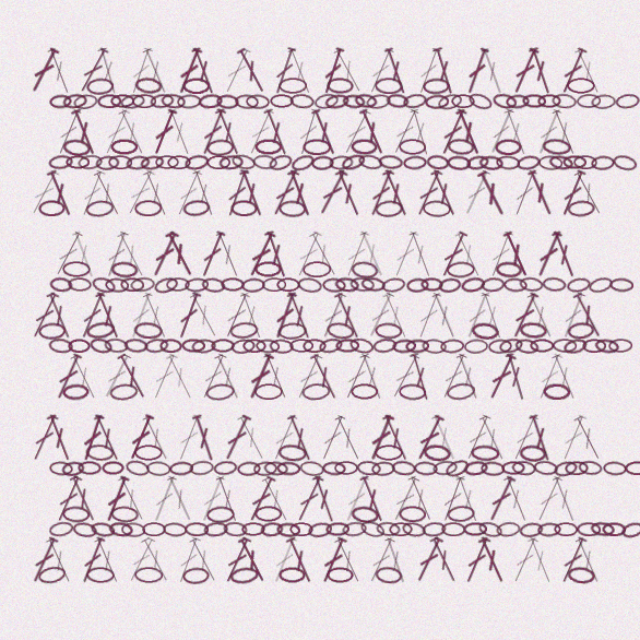chain: (78, 298, 106, 317), (408, 354, 436, 373), (406, 423, 431, 444), (34, 522, 61, 541), (427, 88, 452, 108), (265, 144, 290, 164), (78, 187, 105, 205), (298, 299, 325, 317), (100, 355, 127, 373), (188, 355, 215, 373), (210, 523, 237, 541), (311, 144, 336, 163), (57, 131, 83, 149), (321, 243, 347, 261), (431, 299, 457, 317), (321, 467, 347, 485), (496, 131, 523, 148), (122, 299, 149, 316), (210, 299, 237, 316), (276, 355, 303, 372), (78, 411, 105, 428), (254, 411, 281, 428), (245, 144, 269, 163), (329, 480, 353, 499), (123, 75, 149, 92), (409, 131, 435, 148), (167, 187, 193, 204), (475, 299, 501, 316), (519, 299, 545, 316), (387, 411, 413, 428), (409, 467, 435, 484), (343, 523, 369, 540), (519, 523, 545, 540), (400, 89, 424, 107), (560, 145, 584, 163), (83, 257, 107, 275), (140, 257, 164, 275), (538, 257, 562, 275), (254, 300, 281, 316), (515, 313, 539, 331), (506, 425, 530, 443), (437, 481, 461, 499), (343, 188, 369, 204), (387, 188, 413, 204), (519, 188, 545, 204), (101, 244, 127, 260), (409, 244, 435, 260), (453, 244, 479, 260), (431, 412, 457, 428), (475, 412, 501, 428), (101, 468, 127, 484), (189, 468, 215, 484), (568, 481, 591, 499), (287, 89, 311, 106), (368, 89, 392, 106), (450, 89, 474, 106), (168, 145, 192, 162), (211, 145, 235, 162), (327, 145, 351, 162), (421, 257, 445, 274), (291, 313, 315, 330), (319, 313, 343, 330), (456, 313, 480, 330), (114, 425, 138, 442), (44, 481, 68, 498), (79, 76, 104, 92), (387, 76, 412, 92), (189, 132, 214, 148), (255, 188, 280, 204), (35, 300, 60, 316), (343, 300, 368, 316), (57, 356, 82, 372), (365, 356, 390, 372), (57, 468, 82, 484), (167, 524, 192, 540), (81, 313, 104, 330), (255, 76, 281, 91), (343, 76, 369, 91), (519, 76, 545, 91), (277, 132, 303, 147), (57, 244, 83, 259), (277, 244, 303, 259), (233, 356, 259, 371), (123, 412, 149, 427), (343, 412, 369, 427), (79, 524, 105, 539), (123, 524, 149, 539), (472, 146, 496, 162), (518, 258, 542, 274), (82, 482, 106, 498), (281, 482, 305, 498), (367, 482, 391, 498), (167, 76, 192, 91), (299, 76, 324, 91), (101, 132, 126, 147), (233, 132, 258, 147), (321, 132, 346, 147), (365, 132, 390, 147), (453, 132, 478, 147), (35, 188, 60, 203), (123, 188, 148, 203), (211, 188, 236, 203), (233, 244, 258, 259), (321, 356, 346, 371), (497, 356, 522, 371), (233, 468, 258, 483), (365, 468, 390, 483), (255, 524, 280, 539), (299, 524, 324, 539), (67, 90, 90, 106), (110, 90, 133, 106), (297, 90, 320, 106), (335, 90, 358, 106), (115, 146, 138, 162), (128, 146, 151, 162), (426, 146, 449, 162), (502, 146, 525, 162), (184, 258, 207, 274), (272, 258, 295, 274), (349, 258, 372, 274), (211, 314, 234, 330), (471, 314, 494, 330), (544, 314, 567, 330), (274, 426, 297, 442), (66, 482, 89, 498), (475, 482, 498, 498), (401, 258, 423, 274), (56, 426, 78, 442), (57, 90, 80, 105), (137, 90, 160, 105), (147, 90, 170, 105), (181, 90, 204, 105), (265, 90, 288, 105), (505, 90, 528, 105), (563, 90, 586, 105), (44, 146, 67, 161), (71, 146, 94, 161), (200, 146, 223, 161), (231, 146, 254, 161), (346, 146, 369, 161), (119, 258, 142, 273), (306, 258, 329, 273), (320, 258, 343, 273), (330, 258, 353, 273), (440, 258, 463, 273), (475, 258, 498, 273), (496, 258, 519, 273), (44, 314, 67, 329), (95, 314, 118, 329), (113, 314, 136, 329), (132, 314, 155, 329), (341, 314, 364, 329), (173, 426, 196, 441), (195, 426, 218, 441), (326, 426, 349, 441), (358, 426, 381, 441), (396, 426, 419, 441), (424, 426, 447, 441), (468, 426, 491, 441), (488, 426, 511, 441), (529, 426, 552, 441), (99, 482, 122, 497), (186, 482, 209, 497), (204, 482, 227, 497), (313, 482, 336, 497), (344, 482, 367, 497), (386, 482, 409, 497), (454, 482, 477, 497), (540, 482, 563, 497), (324, 90, 346, 105), (353, 90, 375, 105), (390, 146, 412, 161), (45, 258, 67, 273), (238, 482, 260, 497), (541, 91, 564, 105), (87, 147, 110, 161), (301, 147, 324, 161), (438, 147, 461, 161), (175, 315, 198, 329), (246, 315, 269, 329), (386, 315, 409, 329), (241, 427, 264, 441), (162, 91, 184, 105), (215, 91, 237, 105), (225, 91, 247, 105), (313, 91, 335, 105), (389, 91, 411, 105), (463, 91, 485, 105), (369, 147, 391, 161), (409, 147, 431, 161), (454, 147, 476, 161), (493, 147, 515, 161), (541, 147, 563, 161), (96, 259, 118, 273), (169, 259, 191, 273), (221, 259, 243, 273), (295, 259, 317, 273), (461, 259, 483, 273), (558, 259, 580, 273), (234, 315, 256, 329), (359, 315, 381, 329), (371, 315, 393, 329), (403, 315, 425, 329), (425, 315, 447, 329), (447, 315, 469, 329), (45, 427, 67, 441), (134, 427, 156, 441), (155, 427, 177, 441), (217, 427, 239, 441), (232, 427, 254, 441), (253, 427, 275, 441), (295, 427, 317, 441), (340, 427, 362, 441), (379, 427, 401, 441), (440, 427, 462, 441), (552, 427, 574, 441), (111, 483, 133, 497), (149, 483, 171, 497), (253, 483, 275, 497), (492, 483, 514, 497), (45, 91, 66, 105), (198, 91, 219, 105), (285, 147, 306, 161), (372, 259, 393, 273), (89, 91, 111, 104), (101, 91, 123, 104), (121, 91, 143, 104), (247, 91, 269, 104), (413, 91, 435, 104), (478, 91, 500, 104), (492, 91, 514, 104), (528, 91, 550, 104), (60, 147, 82, 160), (99, 147, 121, 160), (142, 147, 164, 160), (153, 147, 175, 160), (189, 147, 211, 160), (515, 147, 537, 160), (525, 147, 547, 160), (62, 259, 84, 272), (110, 259, 132, 272), (152, 259, 174, 272), (202, 259, 224, 272), (240, 259, 262, 272), (253, 259, 275, 272), (166, 315, 188, 328), (193, 315, 215, 328), (222, 315, 244, 328), (265, 315, 287, 328), (277, 315, 299, 328), (307, 315, 329, 328), (485, 315, 507, 328), (506, 315, 528, 328), (533, 315, 555, 328), (557, 315, 579, 328), (71, 427, 93, 440), (306, 427, 328, 440), (459, 427, 481, 440), (517, 427, 539, 440), (572, 427, 594, 440), (130, 483, 152, 496), (169, 483, 191, 496), (221, 483, 243, 496), (265, 483, 287, 496), (298, 483, 320, 496), (356, 483, 378, 496), (404, 483, 426, 496), (424, 483, 446, 496), (507, 483, 529, 496), (528, 483, 550, 496), (551, 483, 573, 496), (385, 259, 406, 272), (62, 315, 83, 328), (146, 315, 167, 328), (93, 427, 114, 440)
double: (68, 47, 102, 92), (302, 47, 336, 92), (522, 159, 556, 204), (170, 271, 204, 316), (104, 327, 138, 372), (310, 103, 343, 149), (82, 159, 115, 205), (434, 159, 467, 205), (104, 215, 137, 261), (522, 383, 555, 429), (236, 439, 269, 485), (24, 47, 57, 92), (214, 47, 247, 92), (24, 159, 57, 204), (112, 159, 145, 204), (288, 159, 321, 204), (46, 215, 79, 260), (148, 215, 181, 260), (280, 215, 313, 260), (522, 271, 555, 316), (354, 327, 387, 372), (214, 383, 247, 428), (126, 495, 159, 540), (170, 495, 203, 540), (201, 47, 233, 93), (105, 103, 137, 149), (245, 159, 277, 205), (135, 215, 167, 261), (223, 215, 255, 261), (399, 215, 431, 261), (413, 215, 445, 261), (25, 271, 57, 317), (479, 271, 511, 317), (61, 327, 93, 373), (149, 327, 181, 373), (281, 327, 313, 373), (443, 327, 475, 373), (127, 383, 159, 429), (201, 383, 233, 429), (303, 383, 335, 429), (377, 383, 409, 429), (435, 383, 467, 429), (223, 439, 255, 485), (267, 439, 299, 485), (355, 439, 387, 485), (443, 439, 475, 485), (201, 495, 233, 541), (303, 495, 335, 541), (333, 495, 365, 541), (91, 327, 123, 372), (113, 495, 145, 540), (215, 495, 247, 540), (127, 47, 158, 93), (333, 47, 364, 93), (465, 47, 496, 93), (509, 47, 540, 93), (523, 47, 554, 93), (91, 103, 122, 149), (223, 103, 254, 149), (399, 103, 430, 149), (157, 159, 188, 205), (347, 159, 378, 205), (377, 159, 408, 205), (391, 159, 422, 205), (267, 215, 298, 261), (487, 215, 518, 261), (127, 271, 158, 317), (201, 271, 232, 317), (303, 271, 334, 317), (347, 271, 378, 317), (465, 271, 496, 317), (47, 327, 78, 373), (135, 327, 166, 373), (193, 327, 224, 373), (223, 327, 254, 373), (267, 327, 298, 373), (311, 327, 342, 373), (25, 383, 56, 429), (83, 383, 114, 429), (245, 383, 276, 429), (289, 383, 320, 429), (347, 383, 378, 429), (465, 383, 496, 429), (47, 439, 78, 485), (487, 439, 518, 485), (25, 495, 56, 541), (39, 495, 70, 541), (83, 495, 114, 541), (259, 495, 290, 541), (421, 495, 452, 541), (435, 495, 466, 541), (465, 495, 496, 541), (509, 495, 540, 541), (523, 495, 554, 541), (355, 103, 386, 148), (421, 159, 452, 204), (333, 271, 364, 316), (61, 439, 92, 484), (105, 439, 136, 484), (377, 495, 408, 540), (391, 495, 422, 540), (158, 47, 188, 93), (260, 47, 290, 93), (62, 103, 92, 149), (180, 103, 210, 149), (194, 103, 224, 149), (238, 103, 268, 149), (282, 103, 312, 149), (414, 103, 444, 149), (502, 103, 532, 149), (40, 159, 70, 205), (128, 159, 158, 205), (304, 159, 334, 205), (334, 159, 364, 205), (194, 215, 224, 261), (312, 215, 342, 261), (356, 215, 386, 261), (84, 271, 114, 317), (290, 271, 320, 317), (392, 271, 422, 317), (488, 327, 518, 373), (502, 327, 532, 373), (158, 383, 188, 429), (260, 383, 290, 429), (334, 383, 364, 429), (510, 383, 540, 429), (326, 439, 356, 485), (502, 439, 532, 485), (290, 495, 320, 541), (480, 495, 510, 541), (326, 103, 356, 148), (444, 103, 474, 148), (480, 159, 510, 204), (326, 215, 356, 260), (458, 215, 488, 260), (180, 327, 210, 372), (400, 327, 430, 372), (114, 383, 144, 428), (392, 383, 422, 428), (422, 383, 452, 428), (150, 439, 180, 484), (370, 439, 400, 484), (40, 47, 69, 93), (172, 47, 201, 93), (378, 47, 407, 93), (48, 103, 77, 149), (136, 103, 165, 149), (150, 103, 179, 149), (458, 103, 487, 149), (488, 103, 517, 149), (70, 159, 99, 205), (216, 159, 245, 205), (260, 159, 289, 205), (466, 159, 495, 205), (510, 159, 539, 205), (92, 215, 121, 261), (180, 215, 209, 261), (444, 215, 473, 261), (502, 215, 531, 261), (40, 271, 69, 317), (70, 271, 99, 317), (216, 271, 245, 317), (260, 271, 289, 317), (378, 271, 407, 317), (326, 327, 355, 373), (414, 327, 443, 373), (40, 383, 69, 429), (92, 439, 121, 485), (136, 439, 165, 485), (180, 439, 209, 485), (194, 439, 223, 485), (312, 439, 341, 485), (400, 439, 429, 485), (414, 439, 443, 485), (458, 439, 487, 485), (70, 495, 99, 541), (158, 495, 187, 541), (246, 495, 275, 541), (238, 327, 267, 372), (115, 47, 143, 93), (437, 47, 465, 93), (481, 47, 509, 93), (203, 159, 231, 205), (63, 215, 91, 261), (239, 215, 267, 261), (371, 215, 399, 261), (115, 271, 143, 317), (159, 271, 187, 317), (247, 271, 275, 317), (423, 271, 451, 317), (437, 271, 465, 317), (511, 271, 539, 317), (173, 383, 201, 429), (481, 383, 509, 429), (283, 439, 311, 485), (247, 47, 274, 93), (349, 47, 376, 93), (393, 47, 420, 93), (423, 47, 450, 93), (269, 103, 296, 149), (173, 159, 200, 205), (71, 383, 98, 429), (349, 495, 376, 541), (86, 47, 112, 93), (292, 47, 318, 93), (372, 103, 398, 149), (372, 327, 398, 373), (460, 327, 485, 373)
